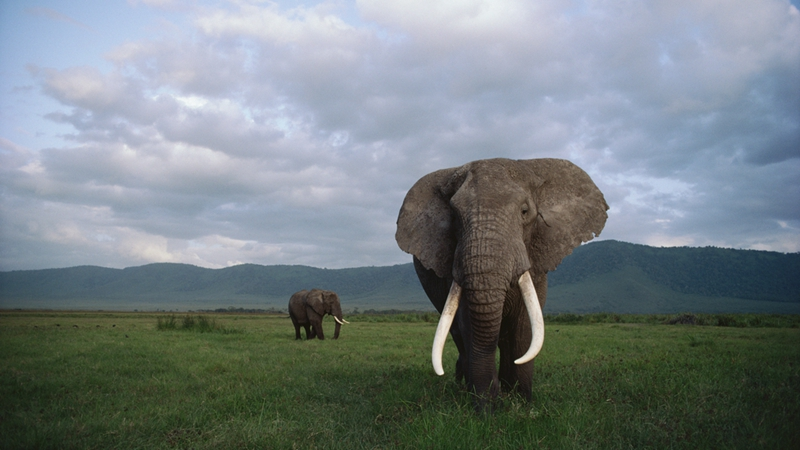elephant: (395, 157, 608, 406), (285, 284, 349, 337)
